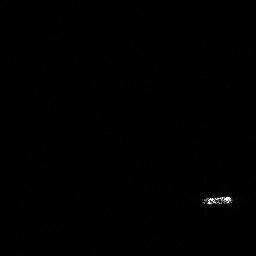ship: (199, 192, 237, 207)
